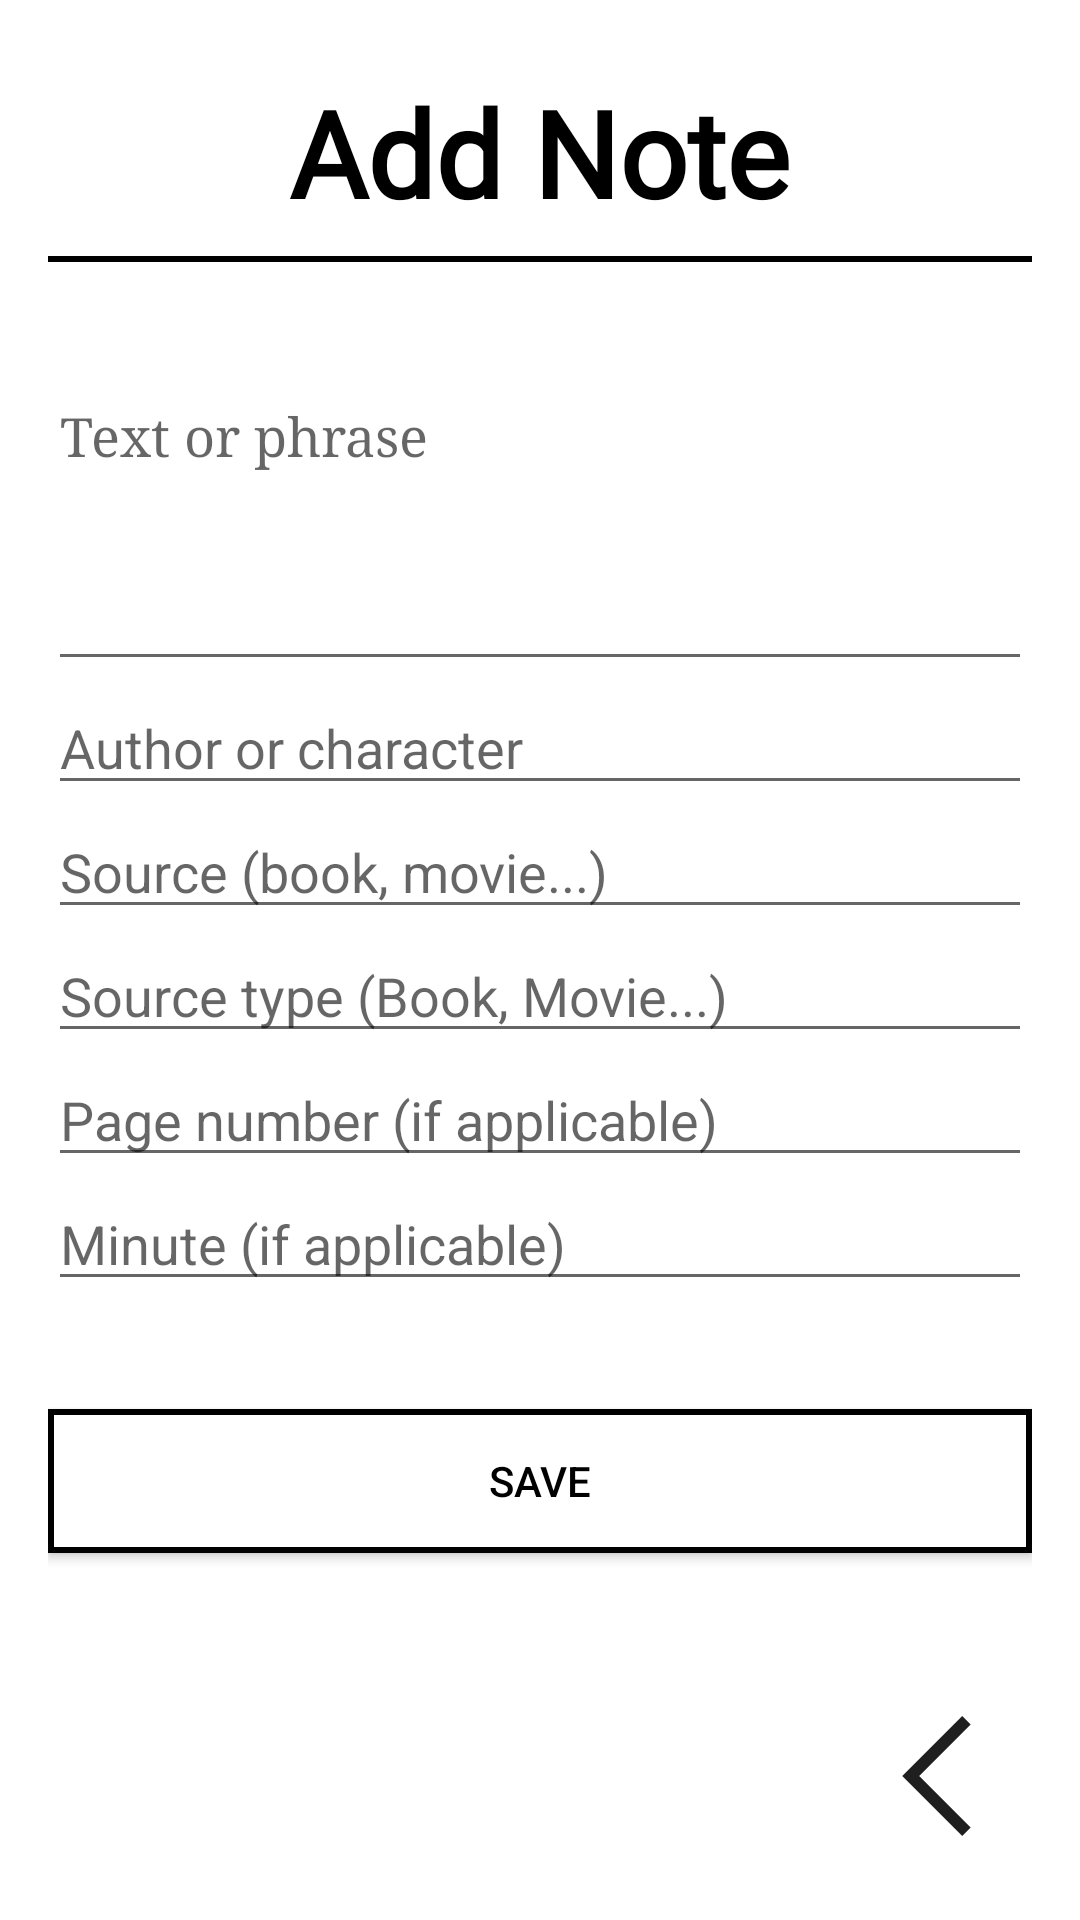

Icons on this 1080 x 1920 Android screen, each with its box as (x1, y1, x2, y2):
Back button: (902, 1716, 971, 1836)
